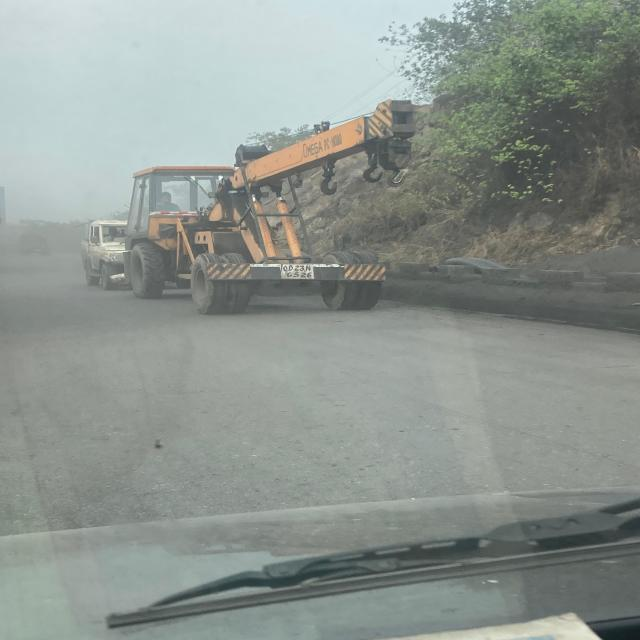light_vehicle: (75, 217, 129, 286)
